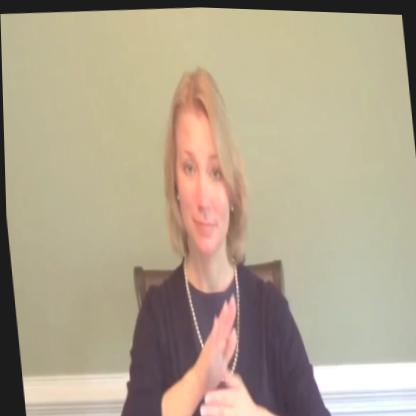NiceToMeetYou: (86, 52, 333, 416)
